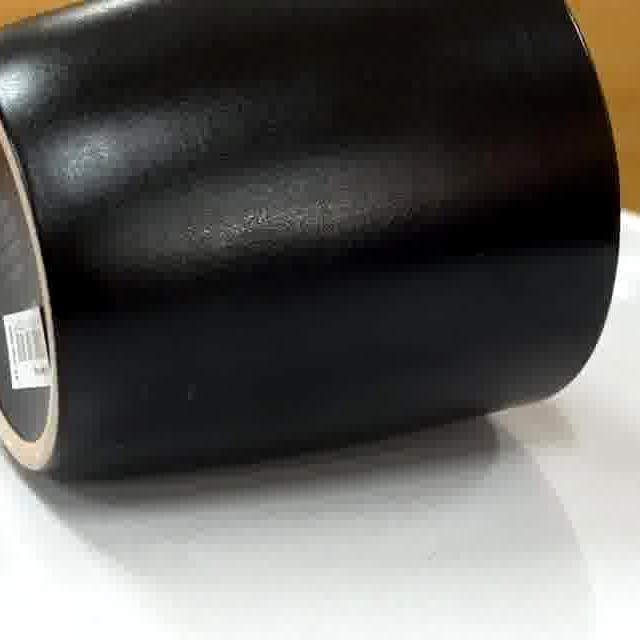cup: (0, 0, 620, 485)
